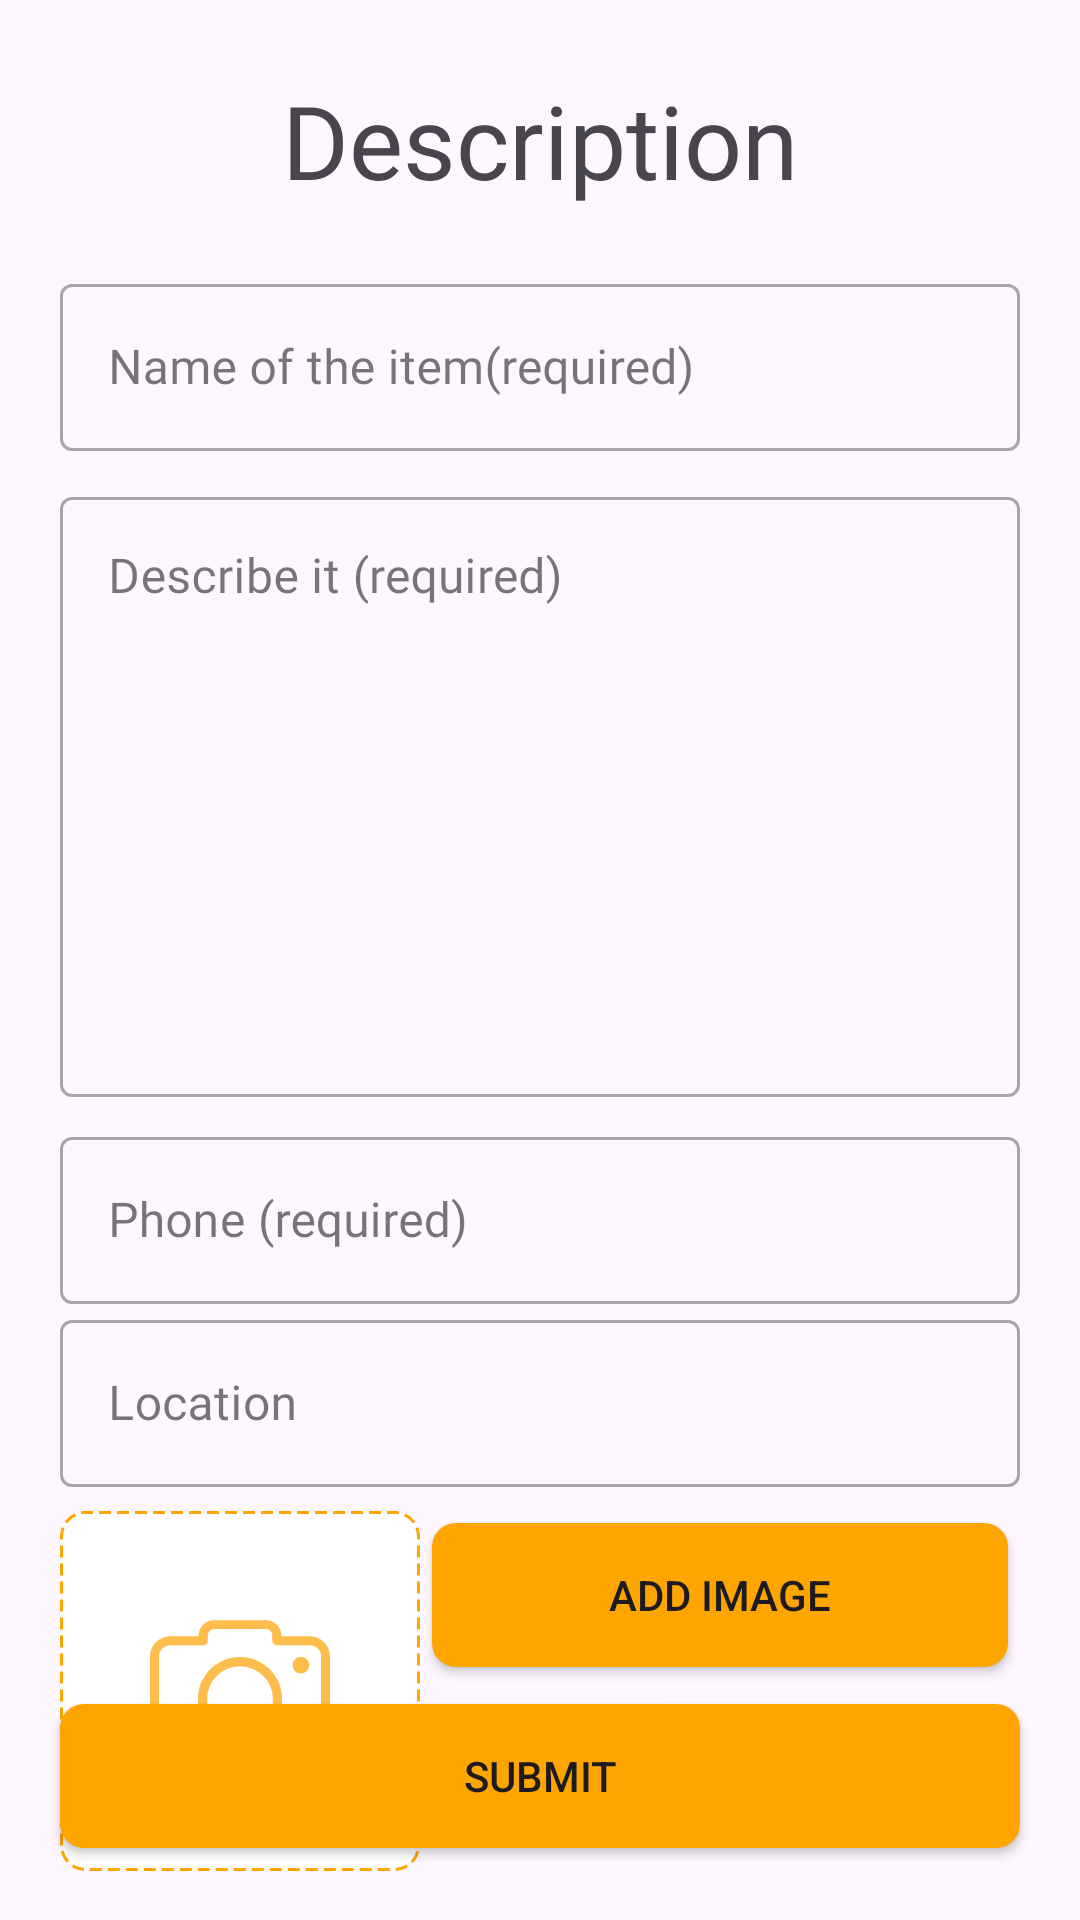

Screen size 1080*1920. Icon name, then its center in pixels as (x=x, y=y):
camera: (x=240, y=1691)
